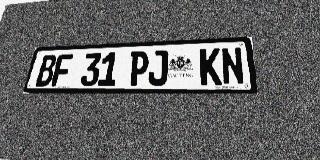1: (97, 52, 119, 86)
3: (80, 53, 102, 86)
B: (35, 55, 58, 86)
F: (51, 54, 73, 86)
J: (147, 50, 168, 86)
K: (200, 48, 222, 85)
N: (221, 47, 245, 85)
P: (128, 51, 149, 86)
